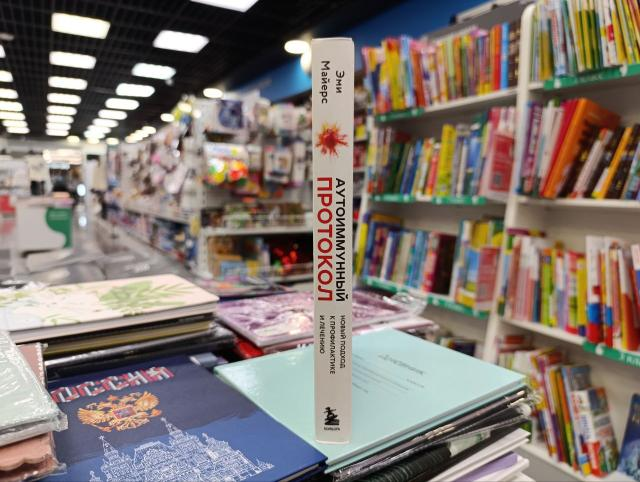book-s-spine: (312, 39, 355, 444)
